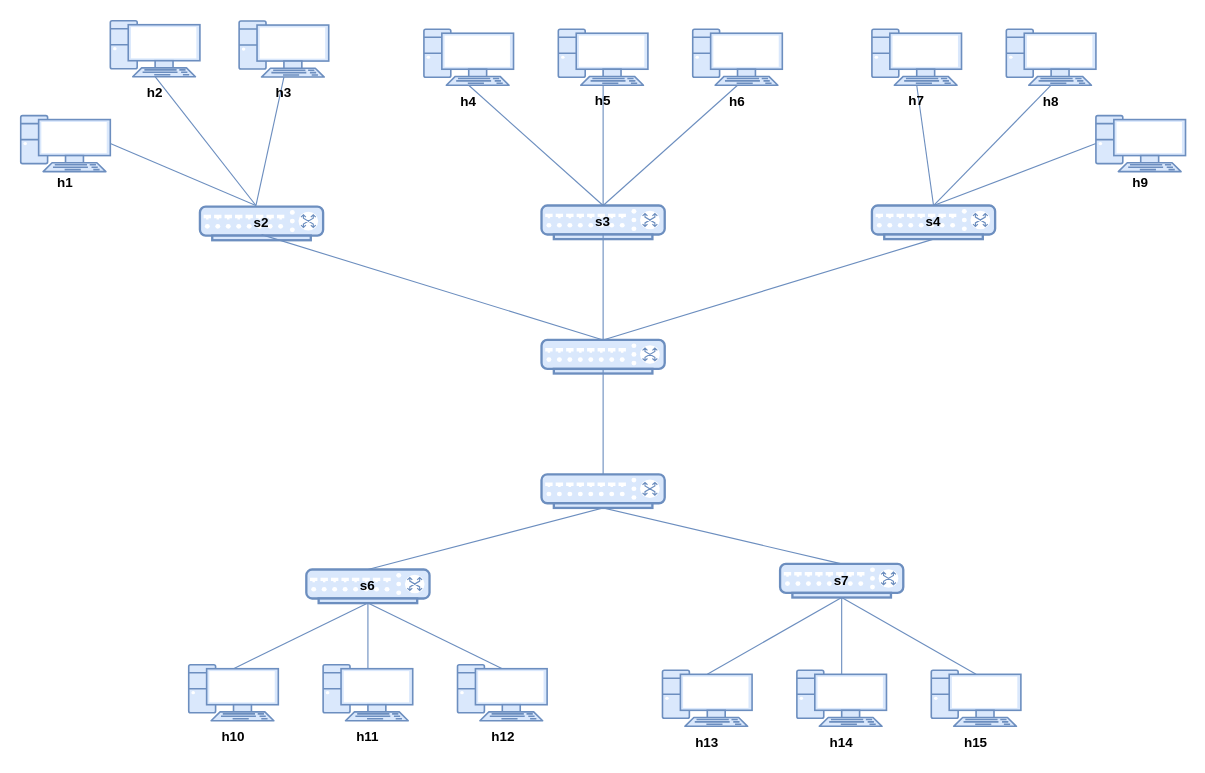
Some shapes in this 1205 by 773 pixel diagram are drawn without their labels. The shapes that lost their labels are listed below. From the top down, each one's centre as x and y in pixels, then its label:
(x=602, y=356): s1
(x=602, y=490): s5
